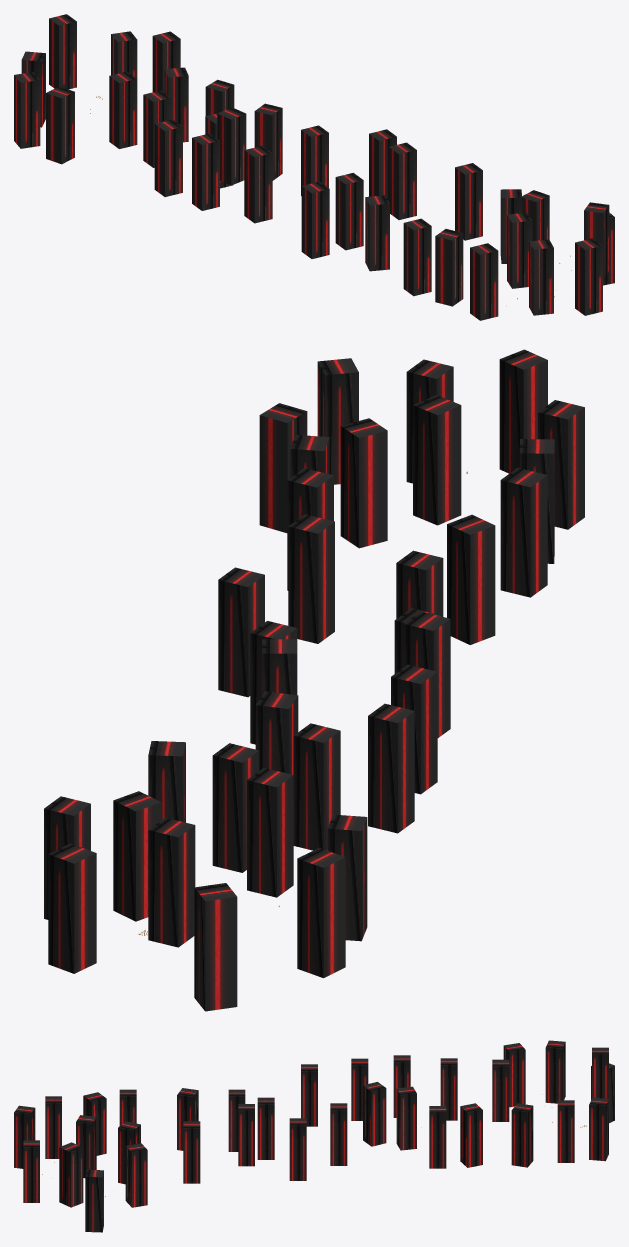
The model's file is Decoration.glb.
The picture shows the model from 3 angles, top to bottom: view 1: azimuth 30°, elevation 25°; view 2: azimuth 150°, elevation 25°; view 3: azimuth 270°, elevation 25°; orthographic projection. The views are drawn at different scales.
Visible parts, largest first — view 1: Cube.021, Cube.015, Cube.018, Cube.024, Cube.016, Cube.020, Cube.027, Cube.028, Cube.014, Cube.013, Cube.035, Cube.017 (+20 smaller); view 2: Cube.026, Cube.005, Cube.003, Cube.023, Cube.025, Cube.024, Cube.001, Cube.018, Cube.020, Cube.013, Cube.019, Cube.002 (+20 smaller); view 3: Cube.036, Cube.010, Cube.038, Cube.007, Cube.006, Cube.009, Cube.003, Cube.005, Cube.037, Cube.004, Cube.008, Cube.011 (+21 smaller).
Part boxes in pixels (x1,y1,x2,y2): Cube.021: (46,86,74,164); Cube.015: (301,181,329,258); Cube.018: (154,119,182,196); Cube.024: (403,218,431,296); Cube.016: (244,145,272,223); Cube.020: (109,71,137,148); Cube.027: (470,243,498,320); Cube.028: (435,229,463,306); Cube.014: (335,172,363,250); Cube.013: (388,142,416,219); Cube.035: (575,238,602,315); Cube.017: (192,133,219,210); Cube.026: (413,395,461,525); Cube.005: (48,843,96,973); Cube.003: (297,847,345,978); Cube.023: (447,514,495,644); Cube.025: (340,418,387,548); Cube.024: (500,467,547,597); Cube.001: (148,817,195,947); Cube.018: (368,703,414,833); Cube.020: (247,768,293,897); Cube.013: (288,514,334,643); Cube.019: (293,723,340,850); Cube.002: (194,883,237,1011); Cube.036: (59,1142,83,1207); Cube.010: (363,1082,386,1146); Cube.038: (125,1143,147,1207); Cube.007: (460,1103,482,1167); Cube.006: (511,1103,533,1167); Cube.009: (396,1086,416,1150); Cube.003: (545,1040,565,1103); Cube.005: (589,1097,608,1161); Cube.037: (85,1169,103,1232); Cube.004: (557,1100,574,1162); Cube.008: (429,1106,446,1168); Cube.011: (330,1103,347,1165).
Bounding box in the file's own units: 589 × 189 × 1153.
Materials: 2 (2 with a texture image).
